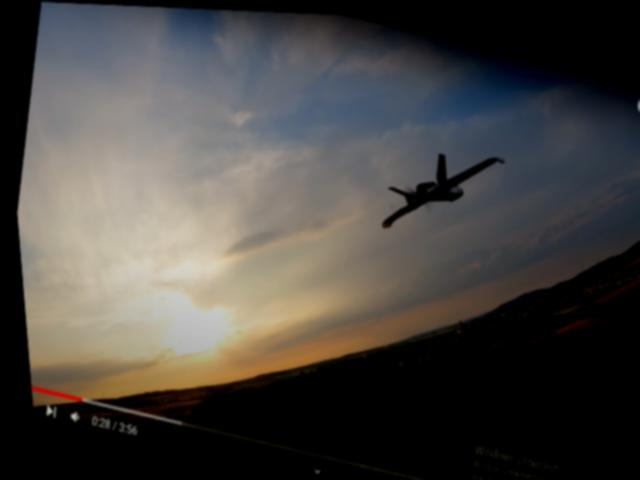plane: (372, 127, 507, 250)
